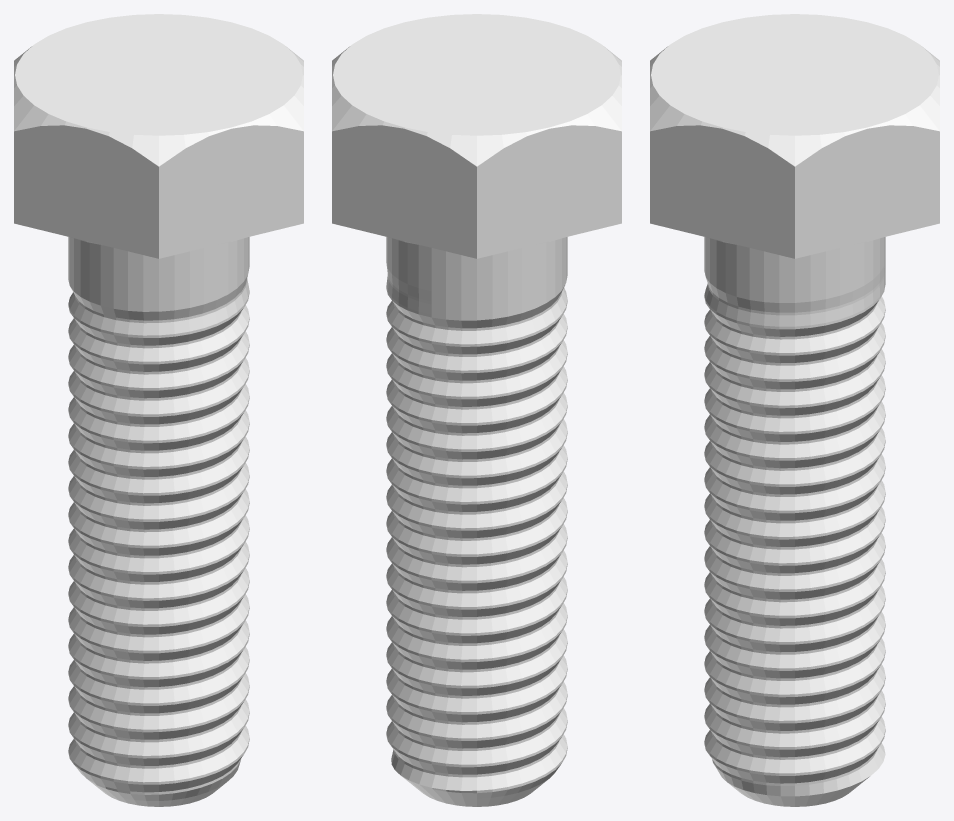
3 renders of one model, left to right at view 1: azimuth 30°, elevation 25°; view 2: azimuth 150°, elevation 25°; view 3: azimuth 270°, elevation 25°, orthographic.
Visible parts, largest first — view 1: M5x20; view 2: M5x20; view 3: M5x20.
Part boxes in pixels (box(x1,y1,x2,y2)): M5x20: box(14, 14, 303, 806); M5x20: box(332, 14, 621, 806); M5x20: box(650, 14, 939, 806).
Size of the model in its own units: 924 by 2150 by 800.
Materials: 1 (1 with a texture image).
